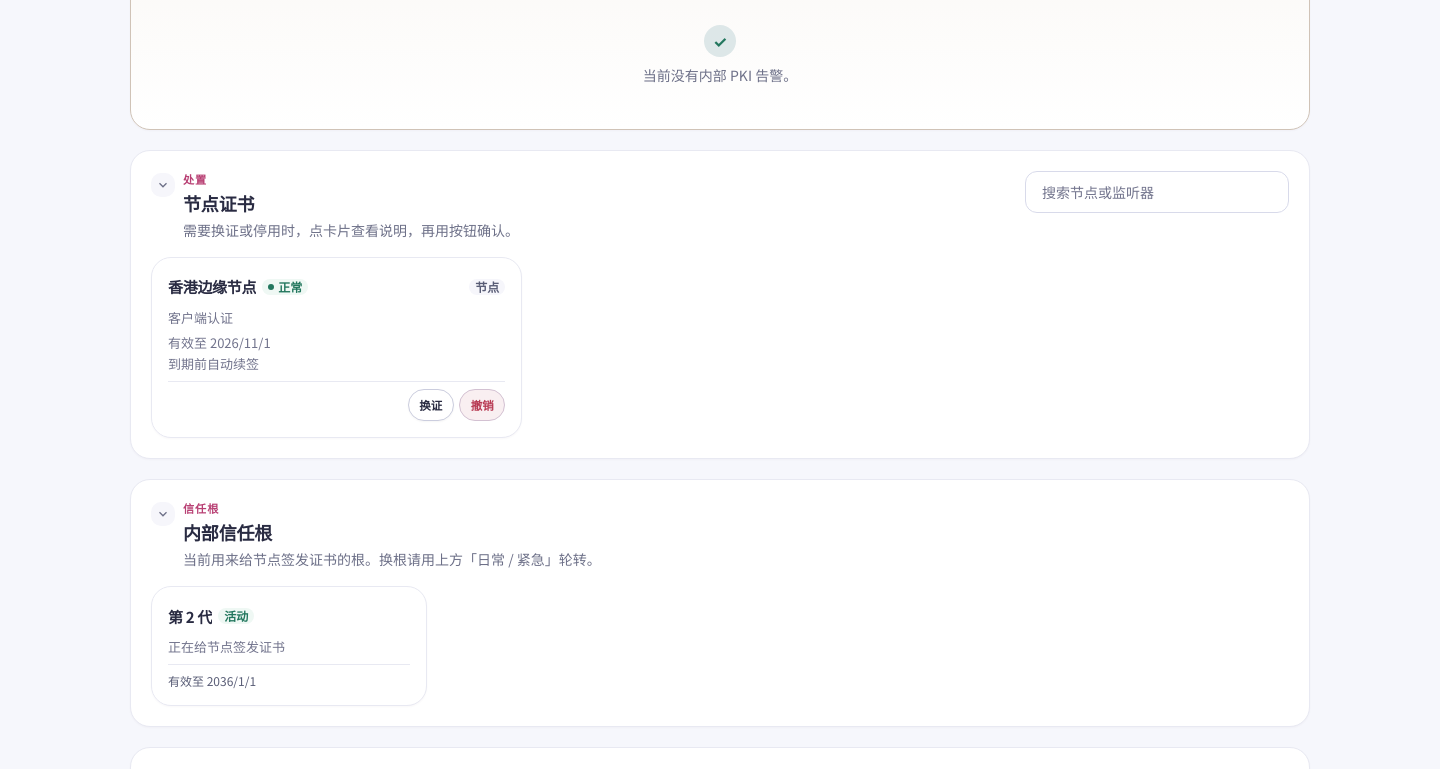
Test: PkiPage behavior boundary › keeps mounted dialogs inside the mobile viewport and safe area
(page scrolled)
Click the button with test id "identity-revoke".
click(482, 405)  # box [459, 389, 505, 421]
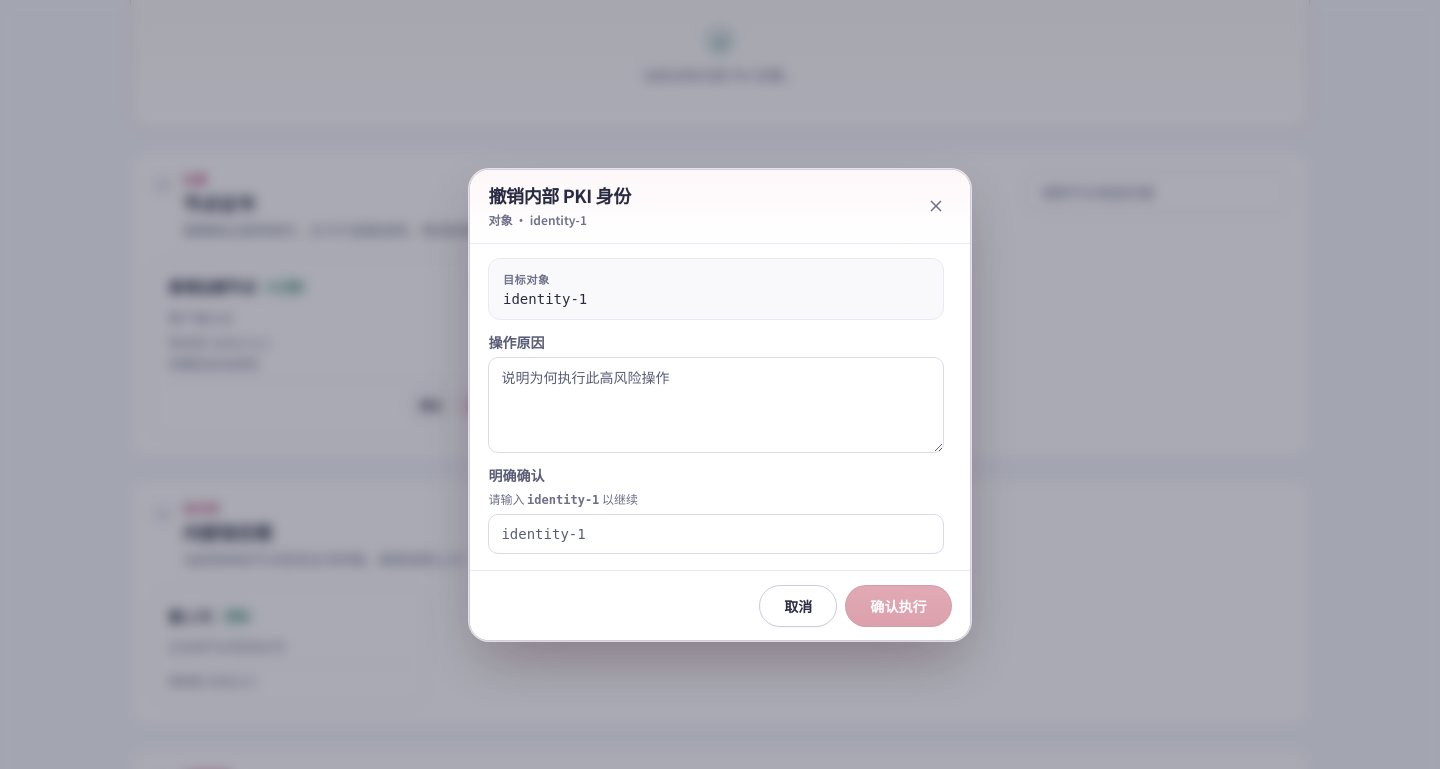
Expected: the dialog is shown, [469, 169, 971, 641]
